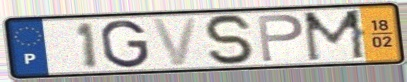1: (74, 20, 99, 71)
G: (98, 18, 152, 70)
M: (300, 8, 370, 64)
P: (255, 13, 307, 64)
S: (202, 13, 260, 68)
V: (148, 15, 201, 68)
